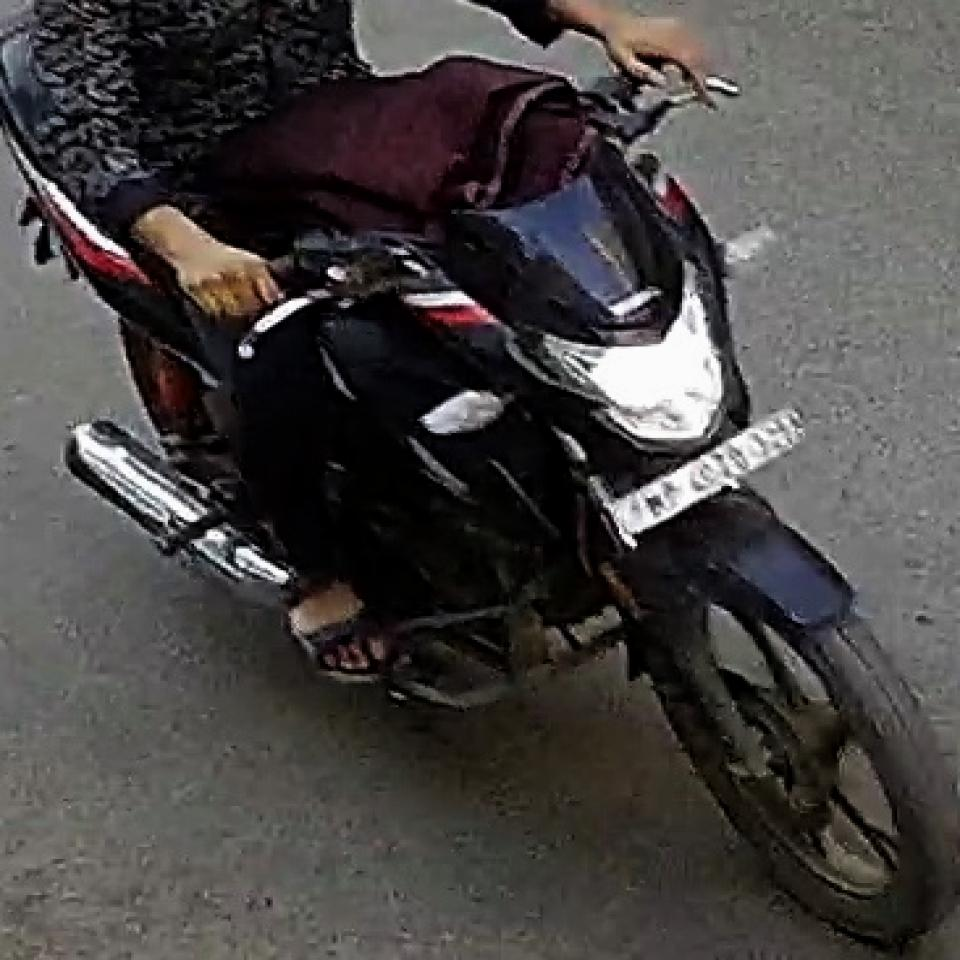head_light: (544, 256, 734, 447)
